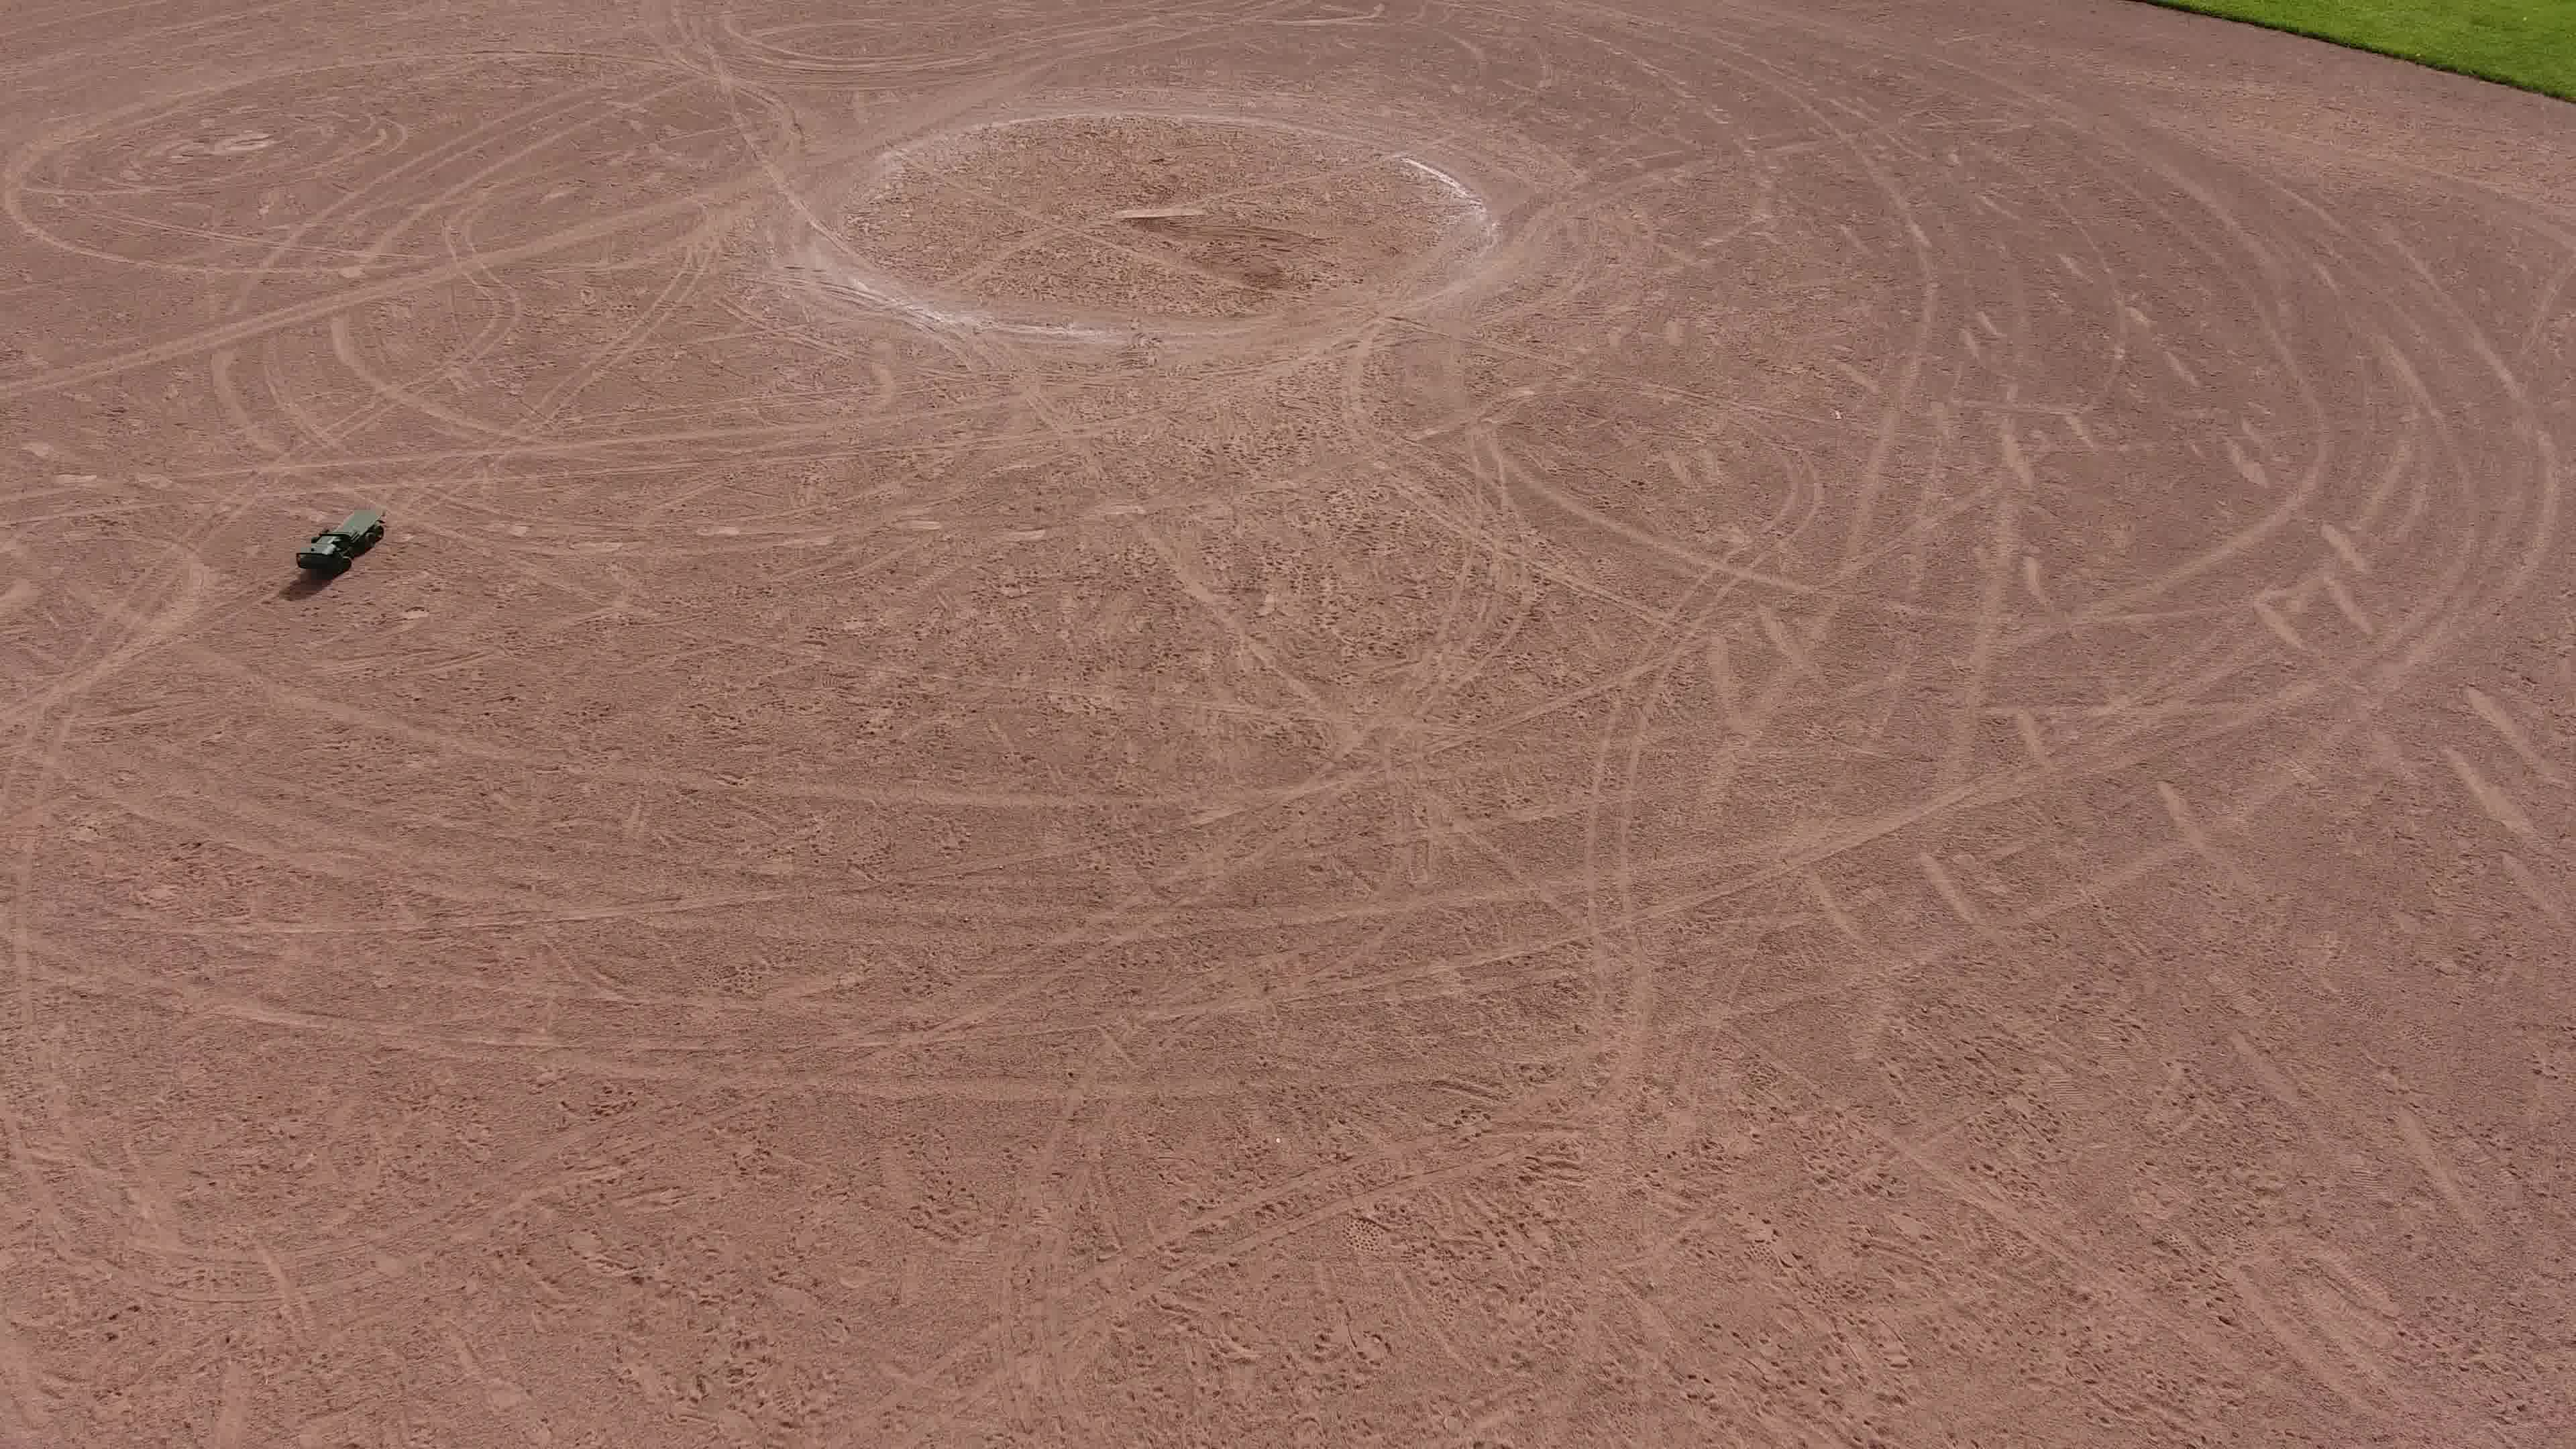transporter9: (292, 508, 389, 580)
